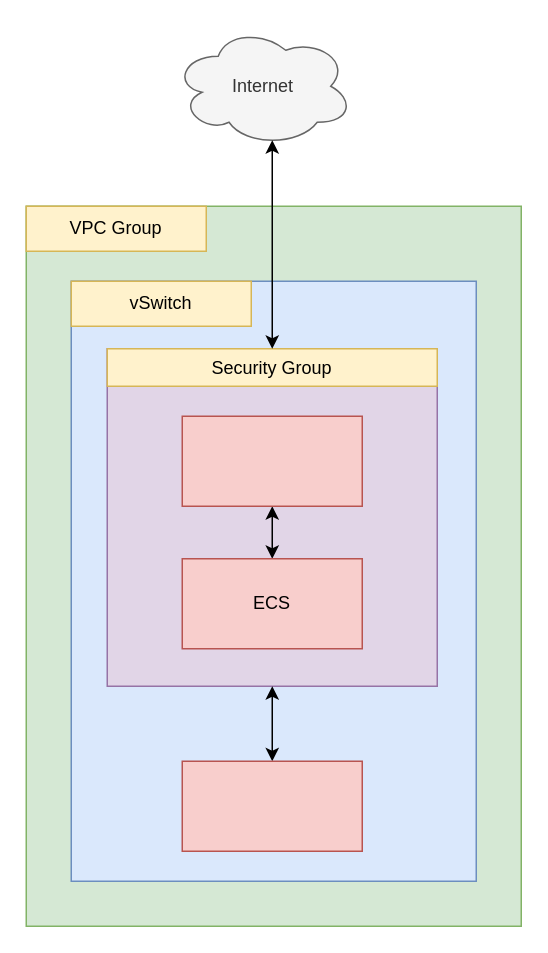
Some shapes in this 548 by 953 pixel diagram are drawn without their labels. Each missing label, with the box of its shape:
EIP: (181, 415, 362, 506)
RDS: (181, 760, 362, 851)
